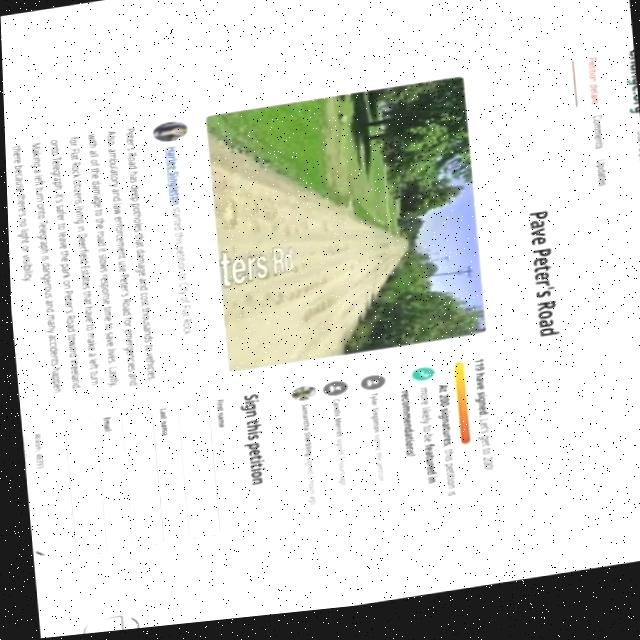Pothole: (292, 304, 339, 329), (217, 206, 236, 235), (261, 203, 283, 226), (246, 222, 266, 239), (239, 296, 257, 313), (269, 296, 280, 314), (246, 208, 259, 222)
